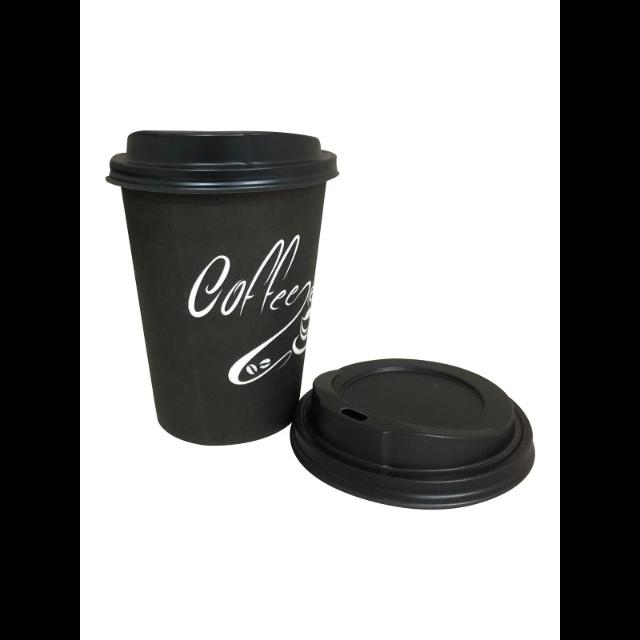trash: (113, 130, 353, 456)
